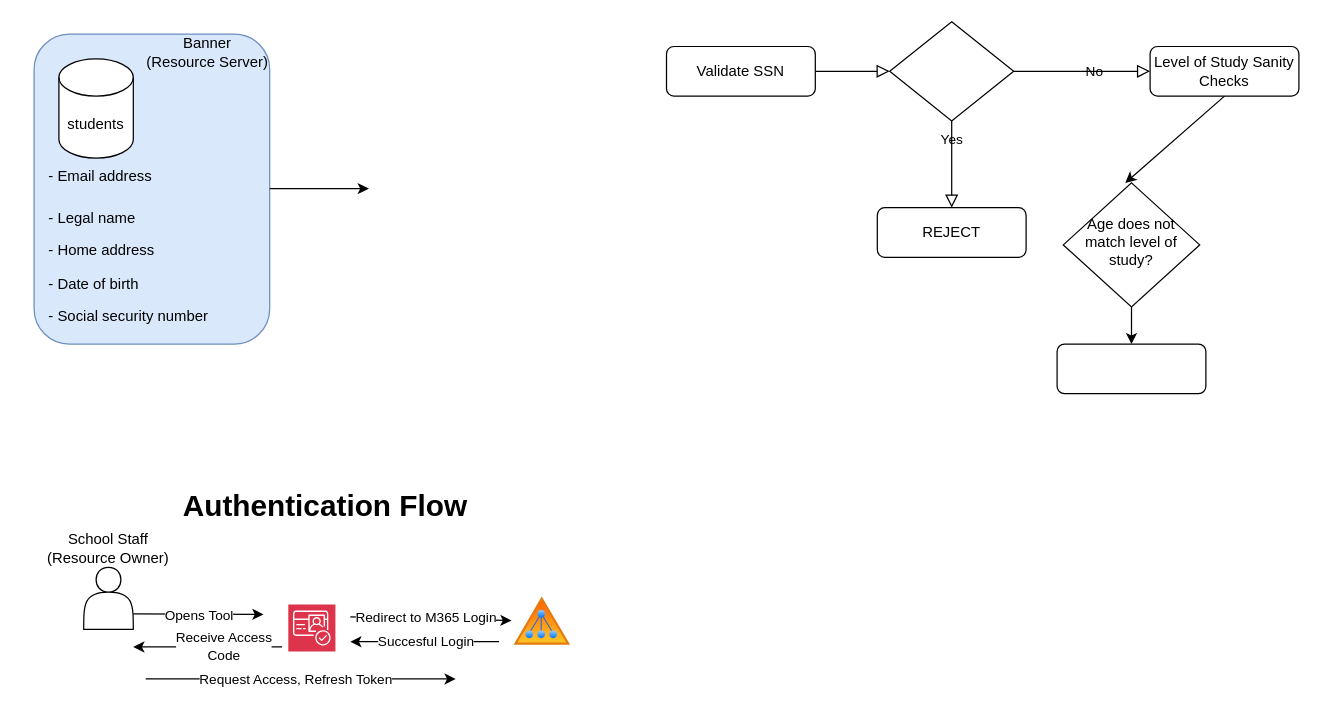
This 1321x711 diagram has some shape labels left out. The shapes that lost their labels are listed below. From the top down, each one's box as (x1, y1, x2, y2) in pixels, then its label:
(888, 20, 1014, 121): SSN is in blacklist?
(1056, 343, 1206, 394): SOFT REJECT
